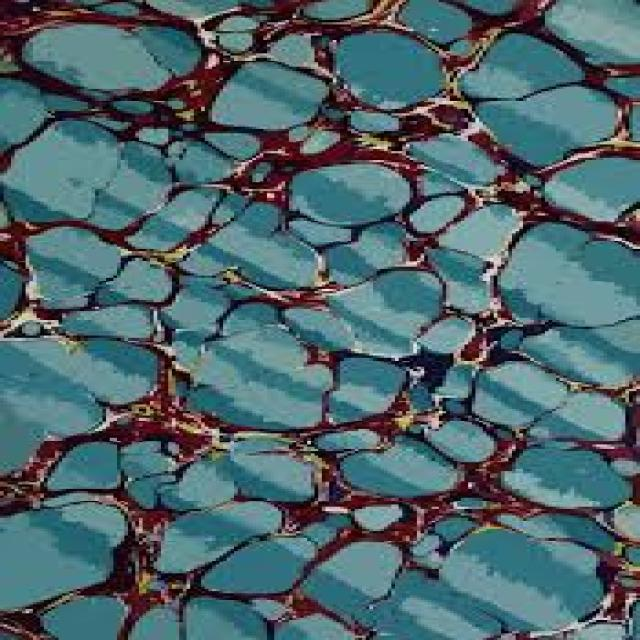Metamorphic: (4, 2, 629, 634)
